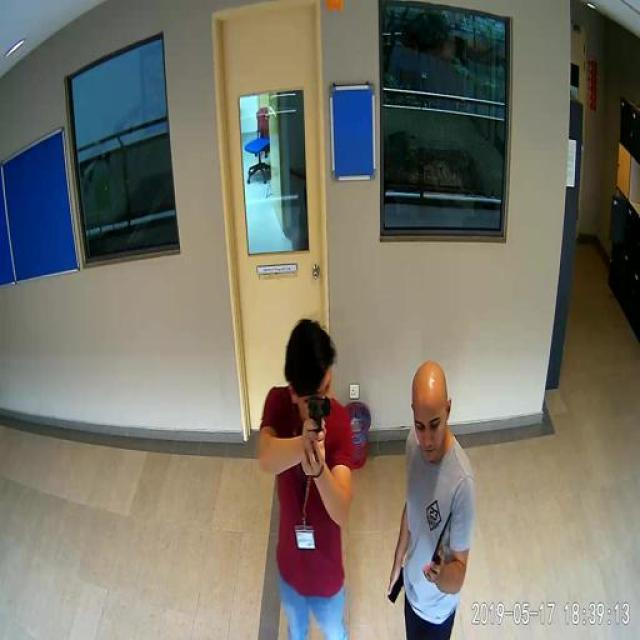Gun: (309, 394, 342, 454)
